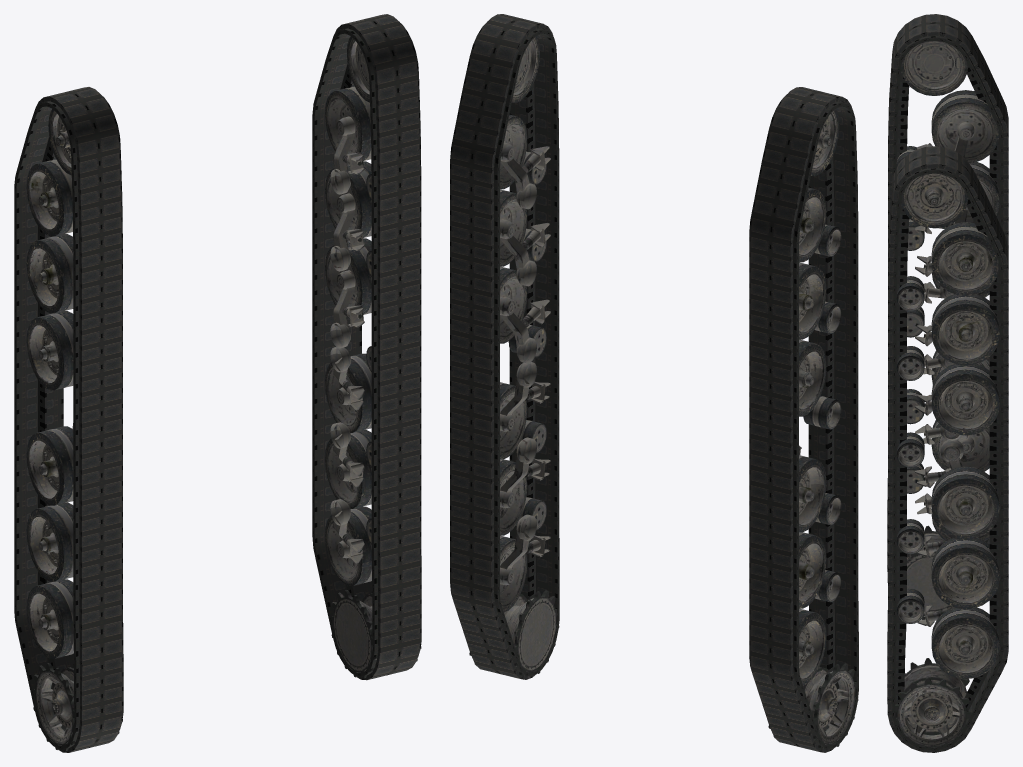
File: Chassis.glb
The picture shows the model from 3 angles, left to right: view 1: azimuth 30°, elevation 25°; view 2: azimuth 150°, elevation 25°; view 3: azimuth 270°, elevation 25°; orthographic projection. The views are drawn at different scales.
Visible parts, largest first — view 1: set_0_group_0, set_1_group_0, set_3_group_0, set_2_group_0; view 2: set_0_group_0, set_1_group_0, set_3_group_0, set_2_group_0; view 3: set_3_group_0, set_1_group_0, set_2_group_0, set_0_group_0.
Part boxes in pixels (x1,y1,x2,y2): set_0_group_0: (14,87,123,752); set_1_group_0: (312,14,421,680); set_3_group_0: (325,36,421,678); set_2_group_0: (26,109,122,751); set_0_group_0: (749,87,858,752); set_1_group_0: (450,14,559,679); set_3_group_0: (469,36,559,678); set_2_group_0: (768,109,858,751); set_3_group_0: (891,173,999,752); set_1_group_0: (887,146,1008,752); set_2_group_0: (896,41,999,612); set_0_group_0: (887,14,1008,619).
Bounding box in the file's own units: 3.25 × 5.82 × 1.09.
Materials: 4 (4 with a texture image).
